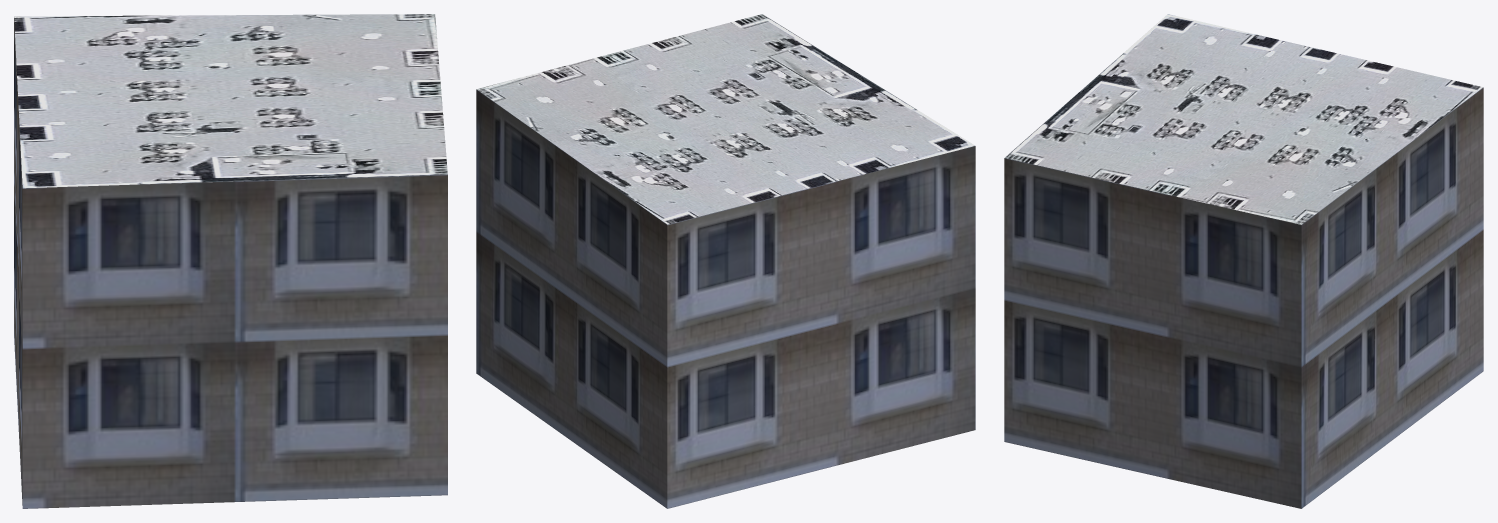
The model's file is ResTex__1200.fbx.
The picture shows the model from 3 angles, left to right: view 1: azimuth 30°, elevation 25°; view 2: azimuth 150°, elevation 25°; view 3: azimuth 270°, elevation 25°; orthographic projection. The views are drawn at different scales.
Parts seen in each view (by area): view 1: CityEngineMaterial_3_m, CityEngineMaterial_8_m; view 2: CityEngineMaterial_3_m, CityEngineMaterial_8_m; view 3: CityEngineMaterial_3_m, CityEngineMaterial_8_m.
Boxes of the visible parts, <box> form: CityEngineMaterial_3_m: <box>14,18,447,508</box>; CityEngineMaterial_8_m: <box>14,14,447,188</box>; CityEngineMaterial_3_m: <box>476,89,975,508</box>; CityEngineMaterial_8_m: <box>476,14,975,224</box>; CityEngineMaterial_3_m: <box>1004,87,1483,508</box>; CityEngineMaterial_8_m: <box>1005,14,1482,224</box>.
Bounding box in the file's own units: 9.55 × 6 × 9.17.
Materials: 2 (2 with a texture image).
